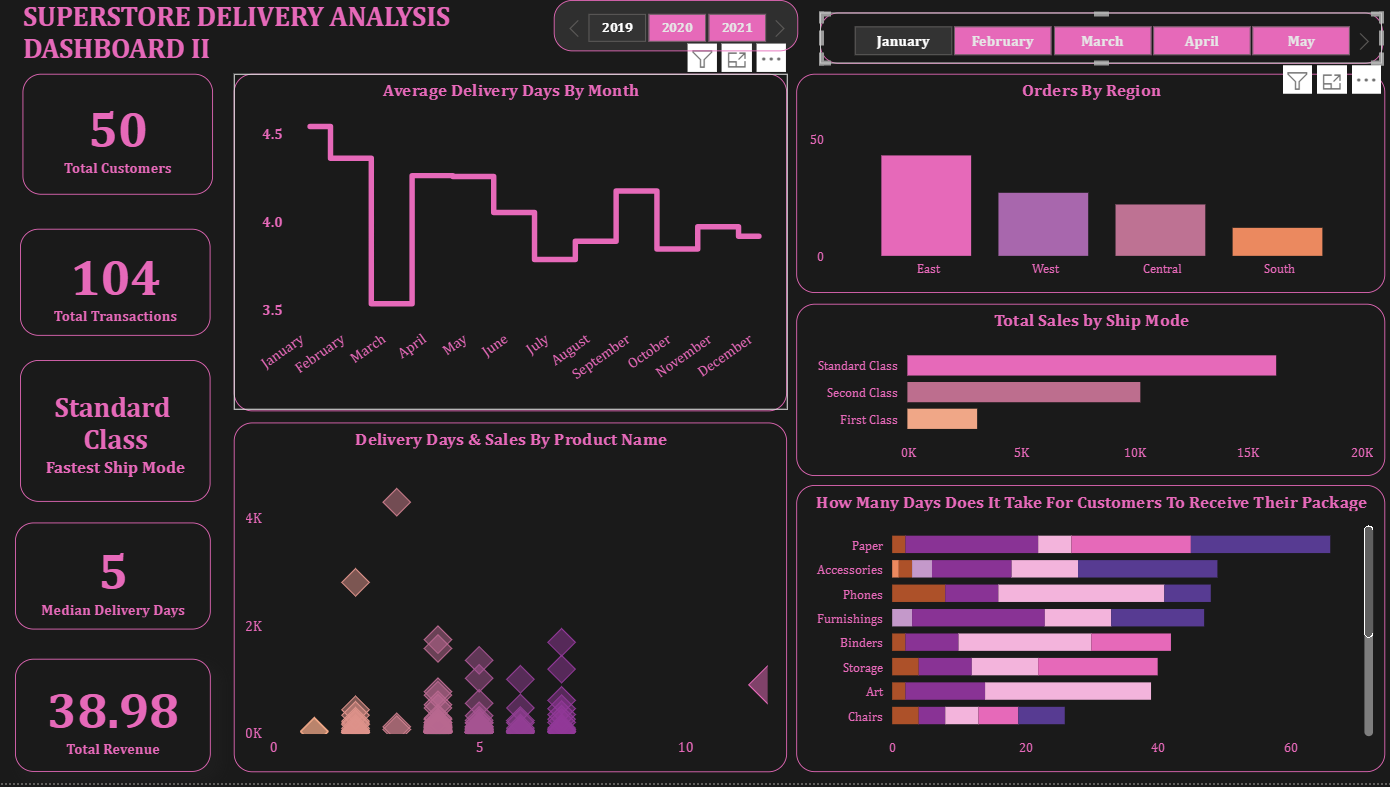

The dashboard page shown, as its layout file describes it:
{"tool":"powerbi","page":{"name":"dashboard3","canvas":[1280,720],"ordinal":2},"visuals":[{"type":"barChart","title":"How Many Days Does It Take For Customers To Receive Their Package","fields":{"Category":["Orders.Sub-Category"],"Y":["Sum(Orders.delivery days)"],"Series":["Orders.delivery days"]},"box":[732.5,446.2,541.2,263.8],"z":0},{"type":"barChart","title":"Total Sales by Ship Mode","fields":{"Category":["Orders.Ship Mode"],"Y":["Sum(Orders.Sales)"]},"box":[732.5,278.8,541.2,158.8],"z":1000},{"type":"scatterChart","title":"Delivery Days & Sales By Product Name","fields":{"X":["Sum(Orders.delivery days)"],"Y":["Sum(Orders.Sales)"],"Category":["Orders.Product Name"],"Size":["CountNonNull(Orders.Product ID)"]},"box":[215,388.8,508.8,321.2],"z":2000},{"type":"lineChart","title":"Average Delivery Days By Month","fields":{"Category":["Orders.Ship Date.Variation.Date Hierarchy.Month"],"Y":["Avg(Orders.delivery days)"]},"box":[215,67.5,508.8,310],"z":3000},{"type":"clusteredColumnChart","title":"Orders By Region","fields":{"Y":["CountNonNull(Orders.Order ID)"],"Category":["Orders.Region"]},"box":[732.5,67.5,541.2,201.2],"z":4000},{"type":"card","fields":{"Values":["Orders.Fastest Ship Mode"]},"box":[18.8,331.2,175,130],"z":5000},{"type":"card","fields":{"Values":["Count(Orders.Order ID)"]},"box":[21.2,67.5,175,111.2],"z":6000},{"type":"card","fields":{"Values":["CountNonNull(Orders.Order ID)"]},"box":[18.8,210,175,98.8],"z":7000},{"type":"card","fields":{"Values":["Median(Orders.delivery days)"]},"box":[13.8,480,180,98.8],"z":8000},{"type":"card","fields":{"Values":["Sum(Orders.Sales)"]},"box":[13.8,606.2,180,103.8],"z":9000},{"type":"slicer","fields":{"Values":["Orders.Ship Date.Variation.Date Hierarchy.Year"]},"box":[508.8,0,225,47.5],"z":10000},{"type":"slicer","fields":{"Values":["Orders.Ship Date.Variation.Date Hierarchy.Month"]},"box":[754,11.3,517.3,47.3],"z":11000},{"type":"textbox","title":"SUPERSTORE DELIVERY ANALYSIS DASHBOARD II","box":[16.2,0,492.5,58.8],"z":12000}]}

Visuals, with their boxes in screenshot pixels (x1, y1, x2, y2), scaled from the page's 1280x720 canvas onto the 1390x787 screenshot:
"How Many Days Does It Take For Customers To Receive Their Package" barChart: left=795, top=488, right=1383, bottom=776
"Total Sales by Ship Mode" barChart: left=795, top=305, right=1383, bottom=478
"Delivery Days & Sales By Product Name" scatterChart: left=233, top=425, right=786, bottom=776
"Average Delivery Days By Month" lineChart: left=233, top=74, right=786, bottom=413
"Orders By Region" clusteredColumnChart: left=795, top=74, right=1383, bottom=294
card - Orders.Fastest Ship Mode: left=20, top=362, right=210, bottom=504
card - Count(Orders.Order ID): left=23, top=74, right=213, bottom=195
card - CountNonNull(Orders.Order ID): left=20, top=230, right=210, bottom=338
card - Median(Orders.delivery days): left=15, top=525, right=210, bottom=633
card - Sum(Orders.Sales): left=15, top=663, right=210, bottom=776
slicer - Orders.Ship Date.Variation.Date Hierarchy.Year: left=553, top=0, right=797, bottom=52
slicer - Orders.Ship Date.Variation.Date Hierarchy.Month: left=819, top=12, right=1381, bottom=64
"SUPERSTORE DELIVERY ANALYSIS DASHBOARD II" textbox: left=18, top=0, right=552, bottom=64
